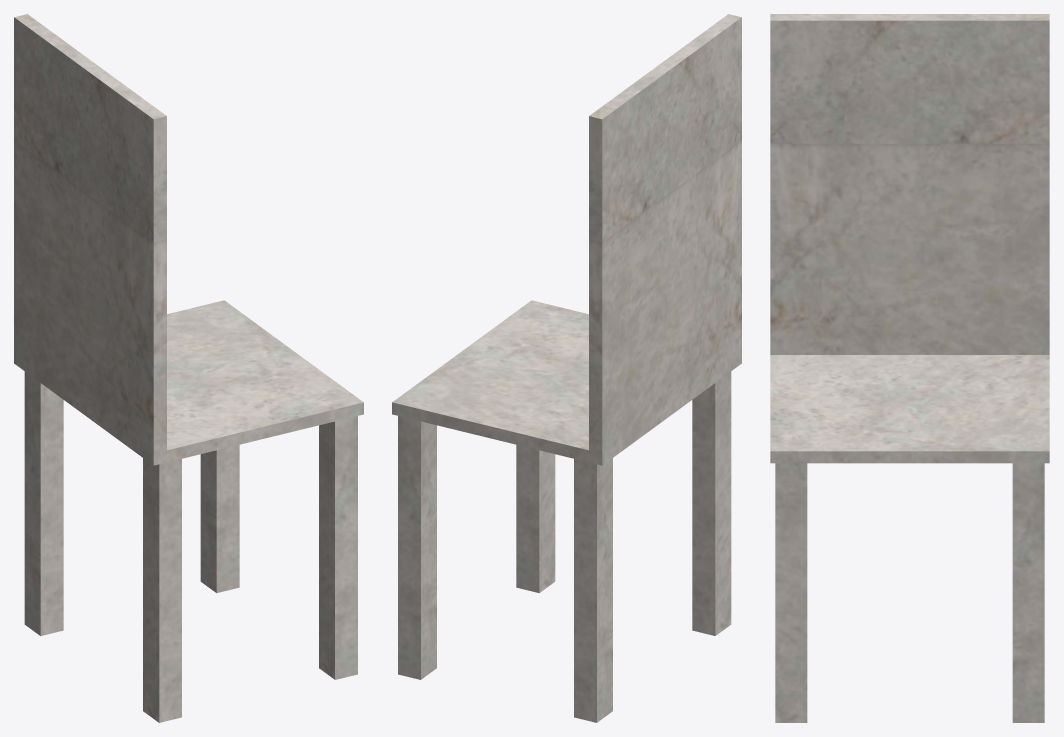
Rendered from chair.fbx.
The picture shows the model from 3 angles, left to right: view 1: azimuth 30°, elevation 25°; view 2: azimuth 150°, elevation 25°; view 3: azimuth 270°, elevation 25°; orthographic projection.
Visible parts, largest first — view 1: Cube.010; view 2: Cube.010; view 3: Cube.010.
Boxes of the visible parts, <box> form: Cube.010: <box>14,14,363,722</box>; Cube.010: <box>392,14,741,722</box>; Cube.010: <box>770,14,1049,722</box>.
Size of the model in its own units: 21.75 by 60.06 by 25.01.
1 material, 1 textured.
